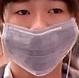with_mask: (1, 2, 79, 78)
